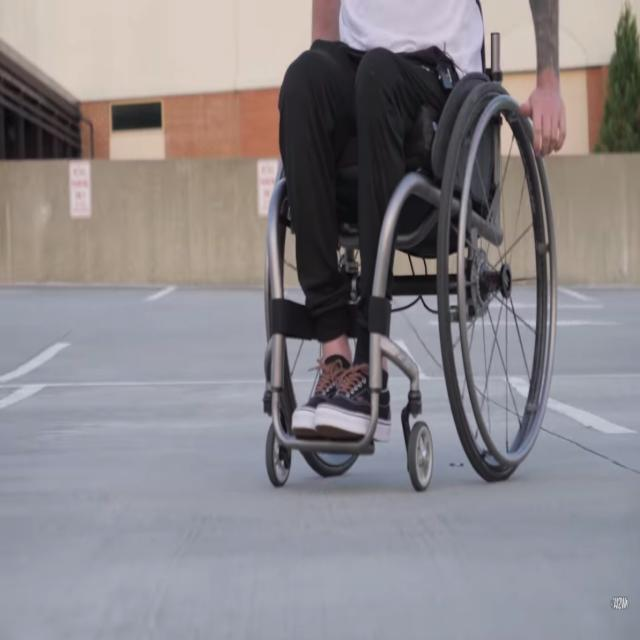wheelchairs: (267, 58, 557, 485)
